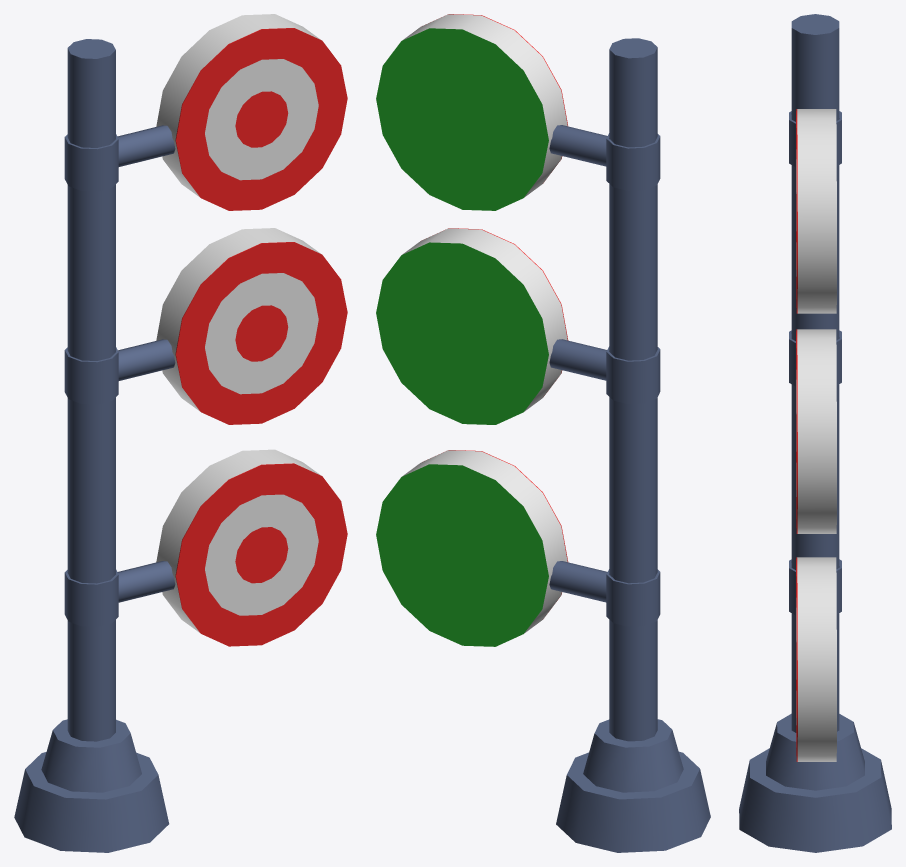
File: Aim.fbx
3 renders of one model, left to right at view 1: azimuth 30°, elevation 25°; view 2: azimuth 150°, elevation 25°; view 3: azimuth 270°, elevation 25°, orthographic. The views are drawn at different scales.
Parts seen in each view (by area): view 1: Cube.083, Cube.113, Cube.111, Cube.112; view 2: Cube.083, Cube.113, Cube.111, Cube.112; view 3: Cube.083, Cube.111, Cube.112, Cube.113.
Part boxes in pixels (x1=…): Cube.083: x1=14, y1=39, x2=169, y2=852; Cube.113: x1=64, y1=449, x2=347, y2=646; Cube.111: x1=64, y1=14, x2=347, y2=210; Cube.112: x1=64, y1=228, x2=347, y2=424; Cube.083: x1=556, y1=38, x2=710, y2=852; Cube.113: x1=376, y1=450, x2=660, y2=646; Cube.111: x1=376, y1=14, x2=660, y2=210; Cube.112: x1=376, y1=228, x2=660, y2=424; Cube.083: x1=739, y1=14, x2=891, y2=852; Cube.111: x1=789, y1=109, x2=841, y2=313; Cube.112: x1=789, y1=329, x2=841, y2=533; Cube.113: x1=789, y1=557, x2=841, y2=761.
Size of the model in its own units: 0.0999 by 0.2343 by 0.0408.
